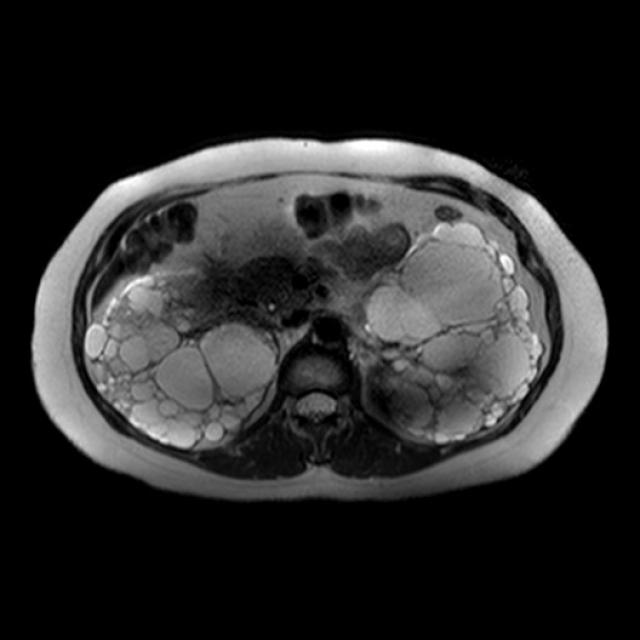sag: (84, 268, 280, 449)
sol: (358, 218, 546, 445)
